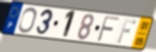1: (62, 10, 77, 41)
3: (34, 8, 54, 37)
8: (77, 14, 95, 41)
F: (95, 15, 121, 44), (116, 18, 138, 44)
O: (17, 7, 38, 35)
